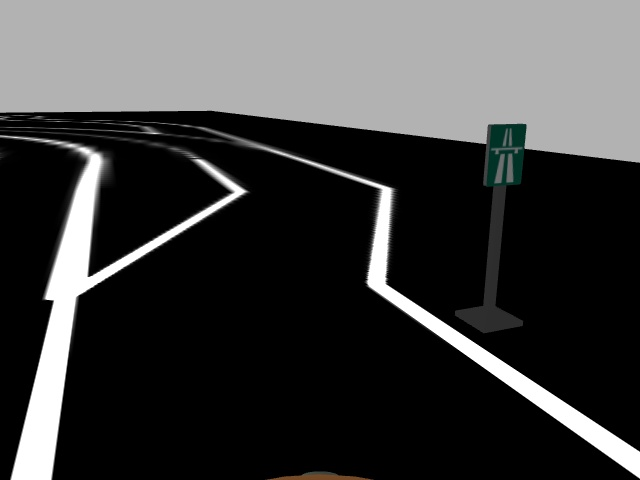enter_highway: (479, 122, 528, 188)
